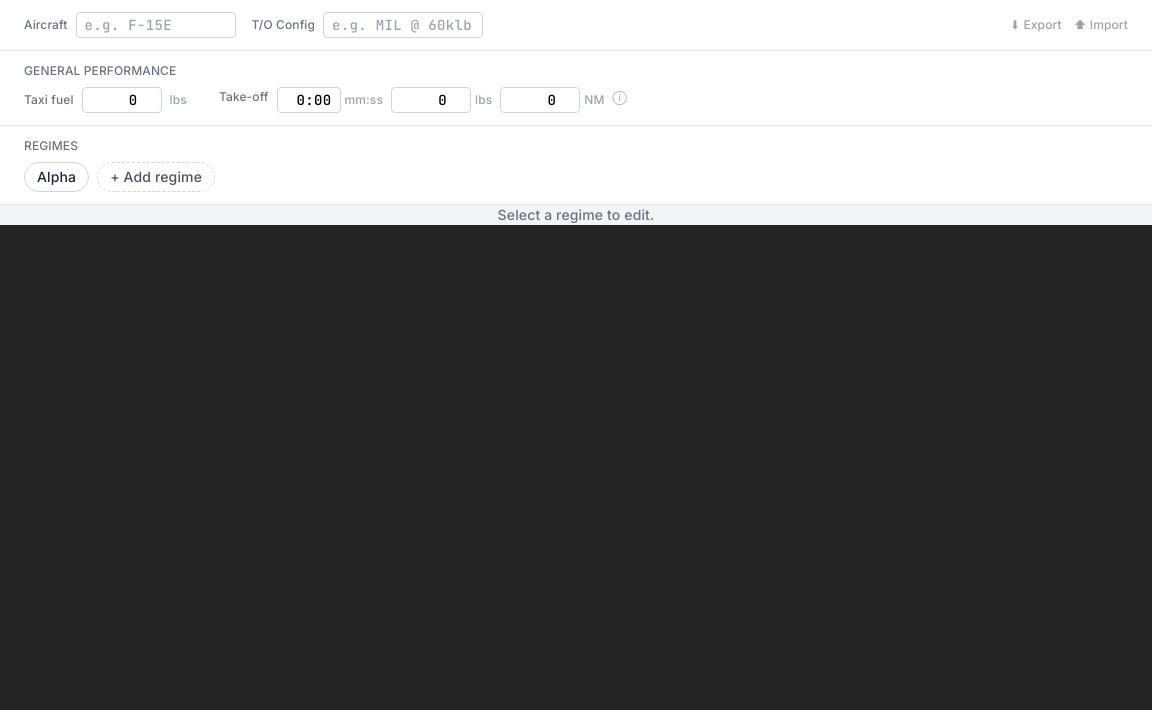
PerformancePage › RegimeEditor › renders editor when a regime is selected
What coordinates should you click on to do the following:
click the button "Alpha"
I would click on:
 (57, 177)
Its box is 24,162 -> 89,192.
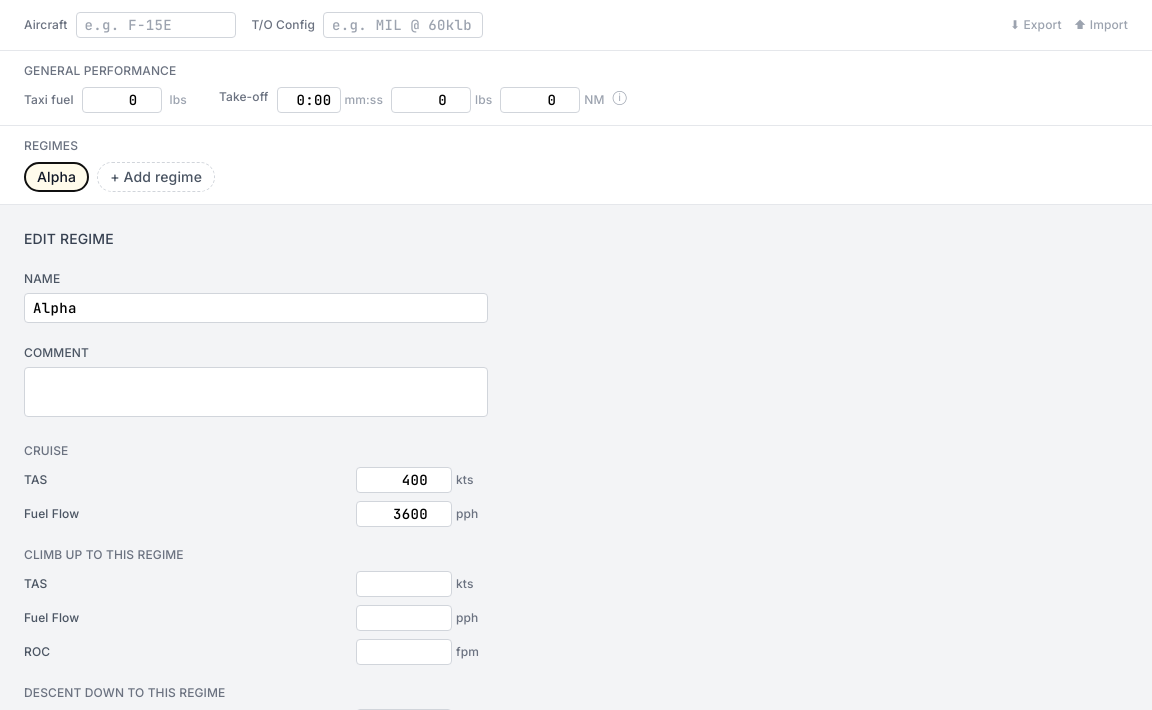
Check: the heading "Edit Regime" is shown, box 24,230 -> 114,247
